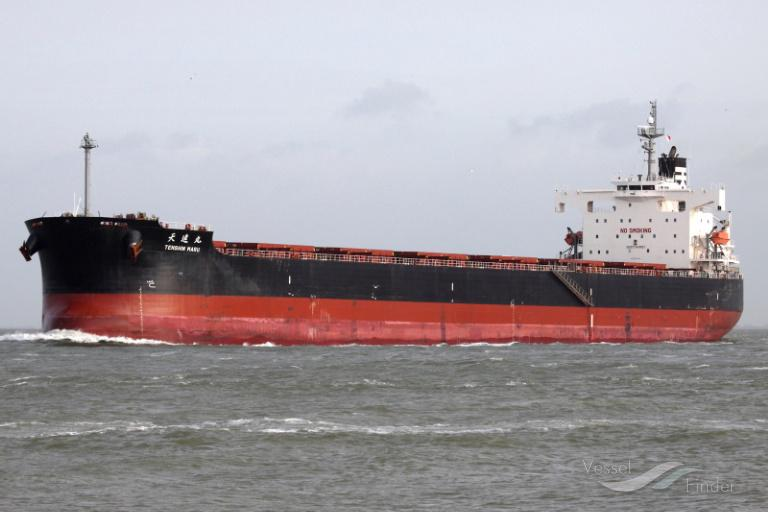OCR: (154, 238, 204, 258)
